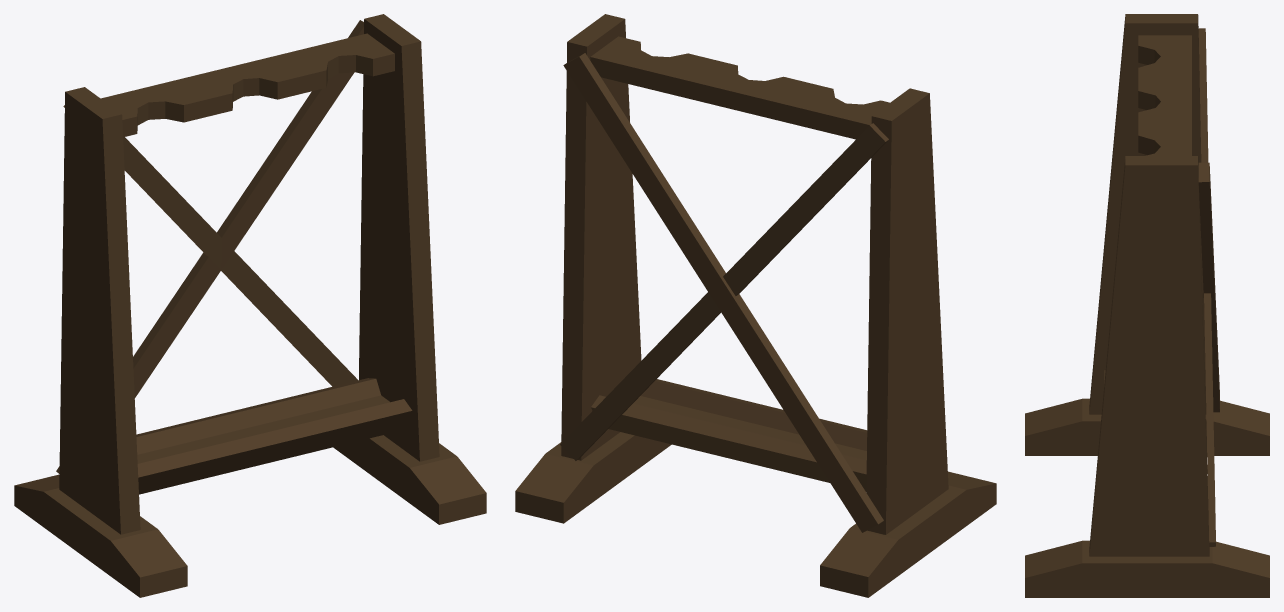
The model's file is WeaponRack_Big.glb.
The picture shows the model from 3 angles, left to right: view 1: azimuth 30°, elevation 25°; view 2: azimuth 150°, elevation 25°; view 3: azimuth 270°, elevation 25°; orthographic projection. The views are drawn at different scales.
Visible parts, largest first — view 1: WeaponRack_Big.001; view 2: WeaponRack_Big.001; view 3: WeaponRack_Big.001.
Boxes of the visible parts, box(x1,y1,x2,y2) form: WeaponRack_Big.001: box(14, 14, 486, 597); WeaponRack_Big.001: box(515, 14, 996, 597); WeaponRack_Big.001: box(1025, 14, 1269, 597).
Size of the model in its own units: 1.16 by 1.4 by 0.7286.
1 material, 1 textured.
